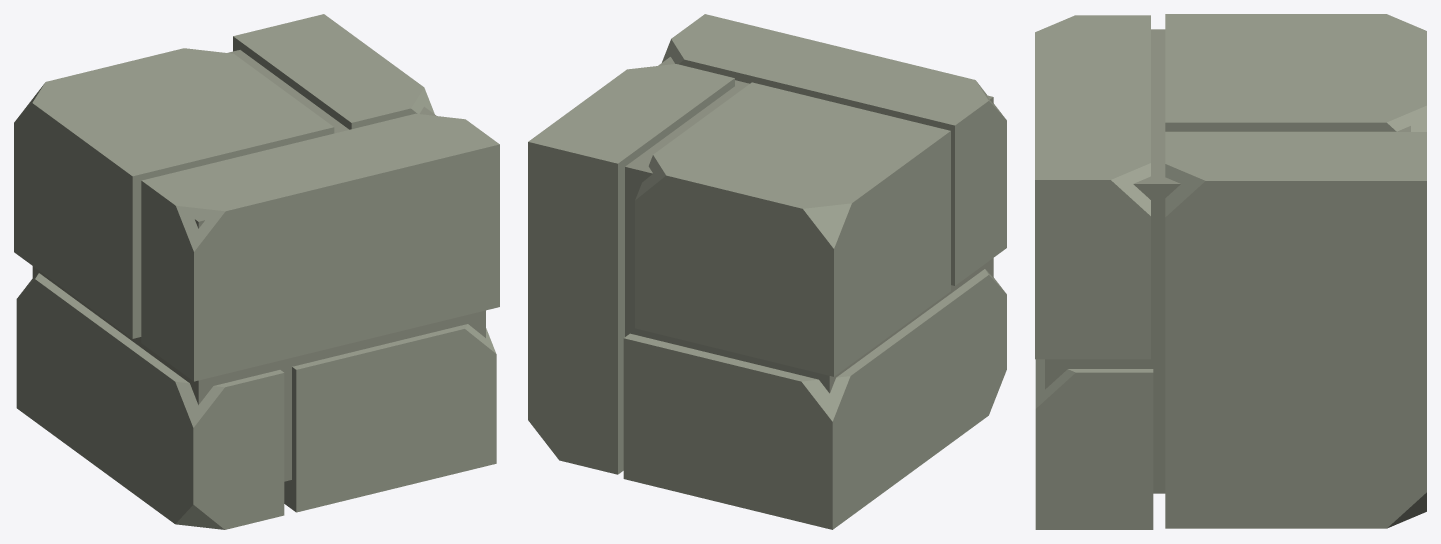
File: brick_test.fbx
3 renders of one model, left to right at view 1: azimuth 30°, elevation 25°; view 2: azimuth 150°, elevation 25°; view 3: azimuth 270°, elevation 25°, orthographic. The views are drawn at different scales.
Parts seen in each view (by area): view 1: brick_test; view 2: brick_test; view 3: brick_test.
Boxes of the visible parts, x1=… form: brick_test: x1=14, y1=14, x2=499, y2=529; brick_test: x1=528, y1=14, x2=1006, y2=529; brick_test: x1=1035, y1=14, x2=1426, y2=529.
Bounding box in the file's own units: 5.15 × 5.1 × 5.06.
